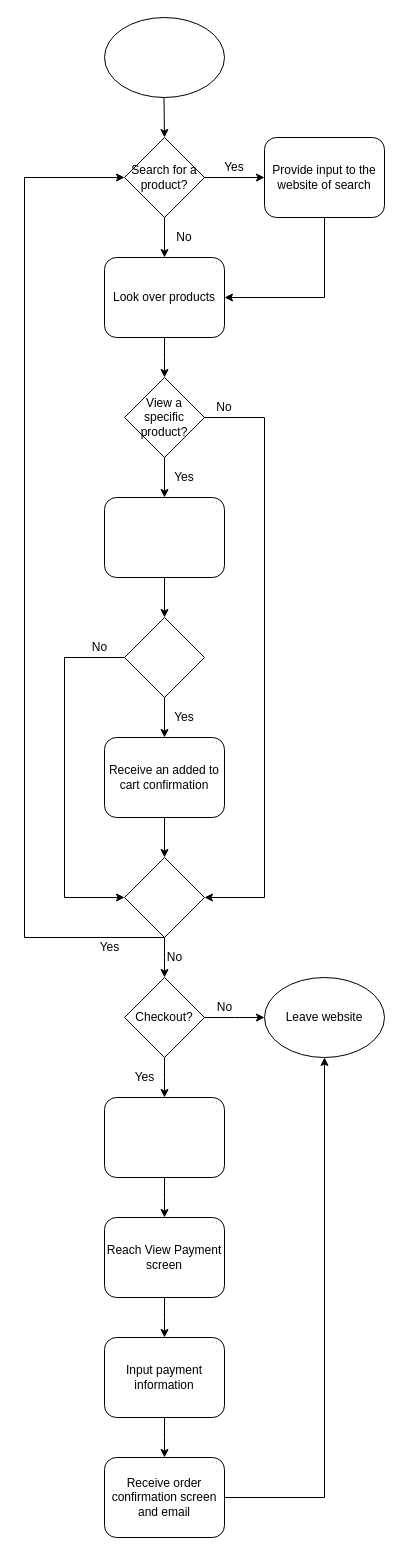
Image size: 402x1555. Some labels were removed from this diagram. Here are the shapes that lost their labels. From the top down, the centre of each, then its label:
At point (164, 57): "Enter website".
At point (164, 537): "Product webpage opened".
At point (164, 657): "Add this item to cart?".
At point (164, 897): "Continue shopping?".
At point (164, 1137): "Reach View Cart screen".
